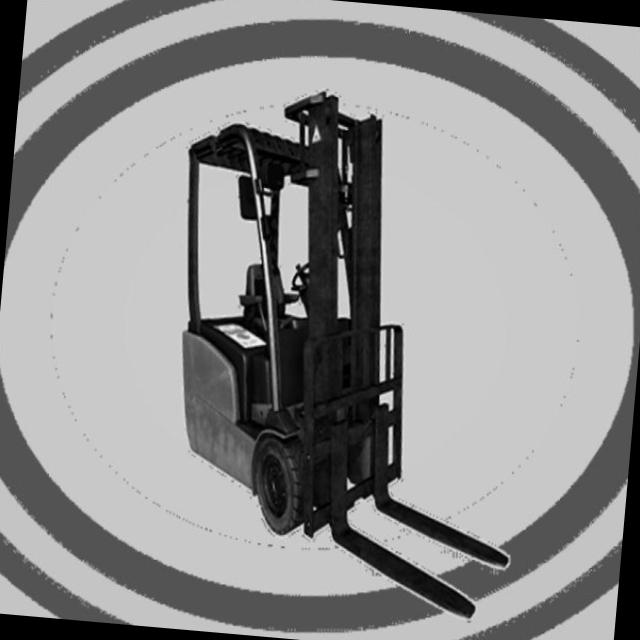forklift: (138, 59, 458, 568)
